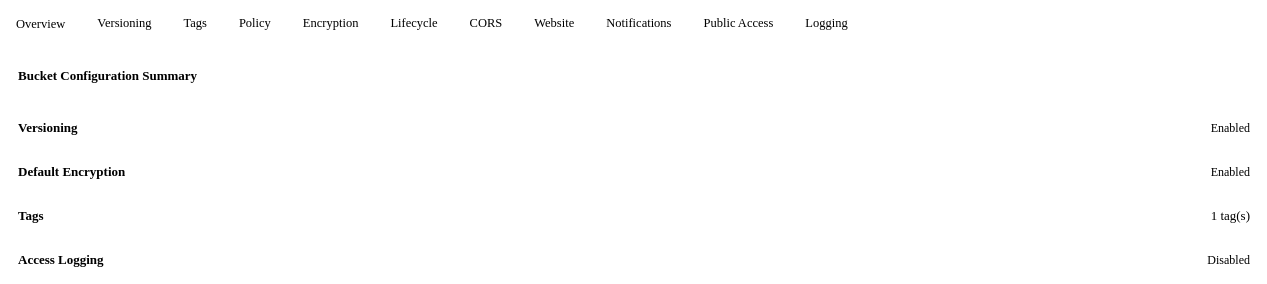
Test case: S3BucketConfig — tab navigation › switches to Notifications tab
Click the tab "Notifications": (639, 24) [592,8,686,41]
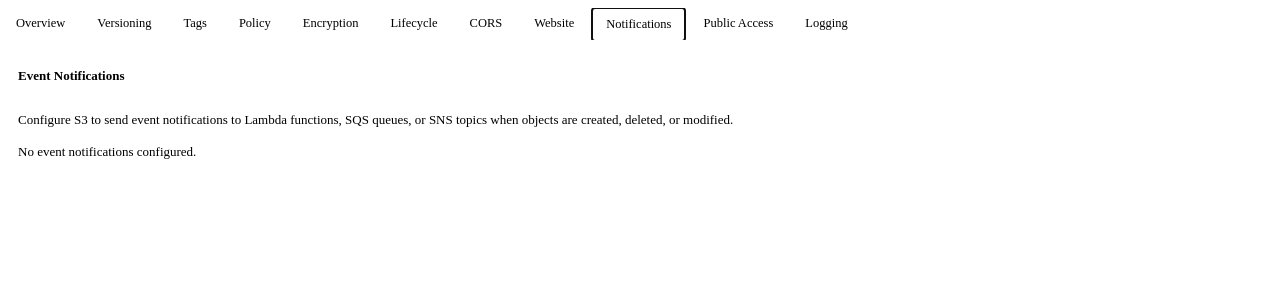
Check: the text "Event Notifications" is shown, box [18,68,124,84]
